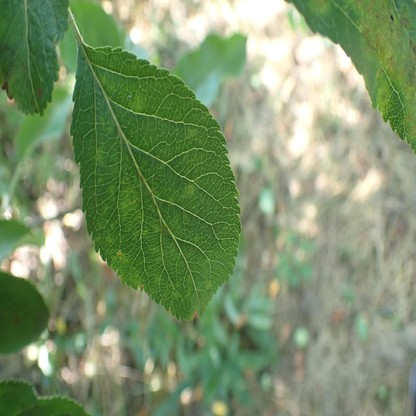frogeye_leaf_spot: (38, 87, 42, 100), (193, 310, 197, 318)
scab: (348, 0, 416, 134), (1, 47, 27, 99), (110, 251, 139, 285), (119, 183, 141, 226), (95, 204, 116, 245), (128, 91, 148, 113), (306, 0, 329, 16), (95, 142, 105, 166), (186, 127, 199, 143), (182, 184, 195, 199), (97, 71, 108, 88), (110, 185, 117, 202), (153, 274, 162, 285), (167, 198, 174, 207)
